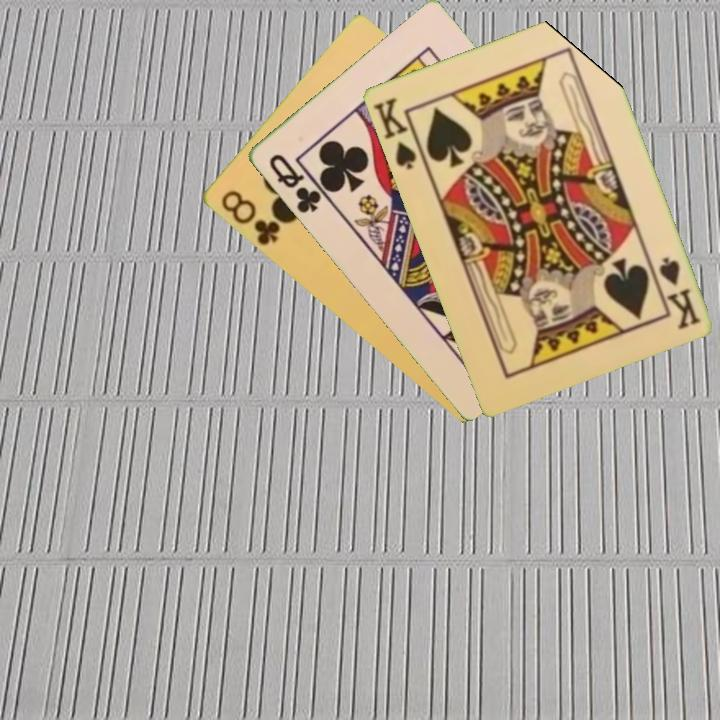8c: (217, 186, 283, 249)
Ks: (369, 94, 419, 173), (654, 253, 703, 332)
Qc: (264, 150, 331, 217)
